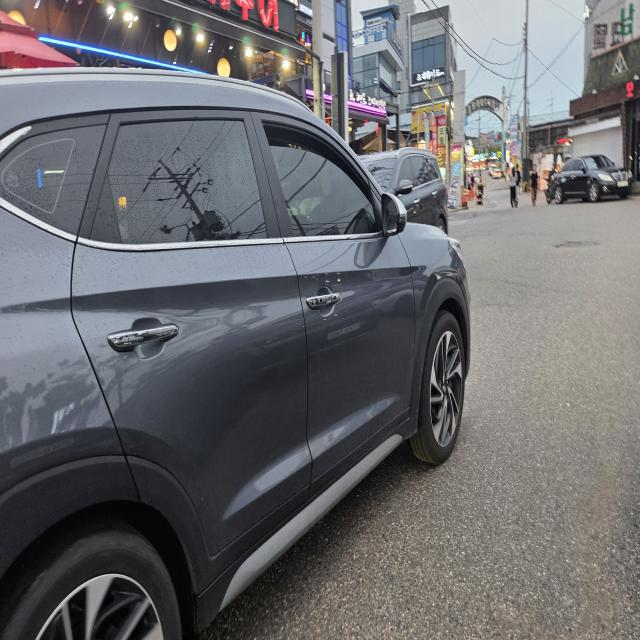car: (0, 47, 477, 640), (353, 131, 459, 272), (542, 148, 633, 213)
